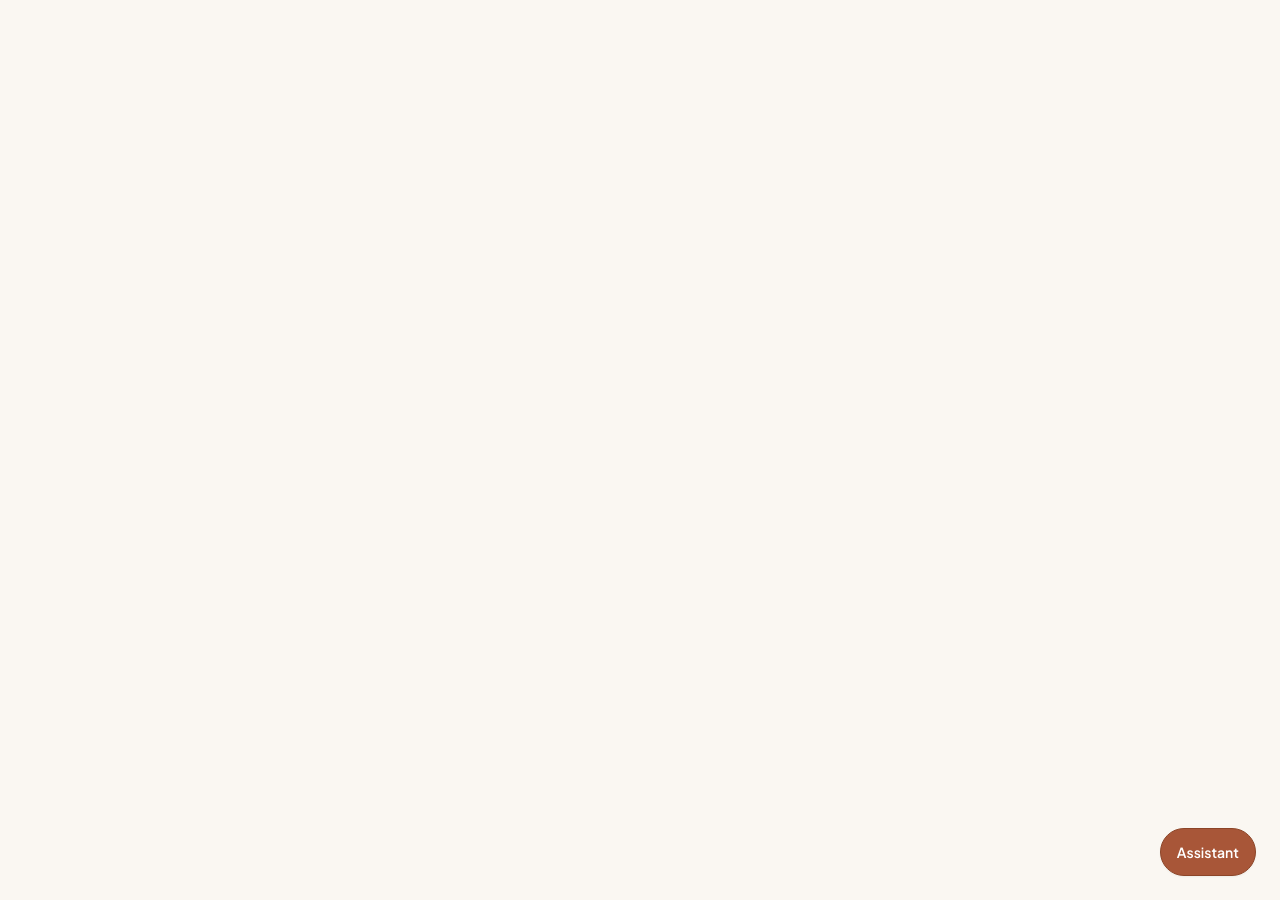
AiAssistant guest access › fetches guest substitutions through the api client, not a relative /api path
Click the button with aria-label "open cooking assistant" at [1208, 852], box left=1160, top=828, right=1256, bottom=876
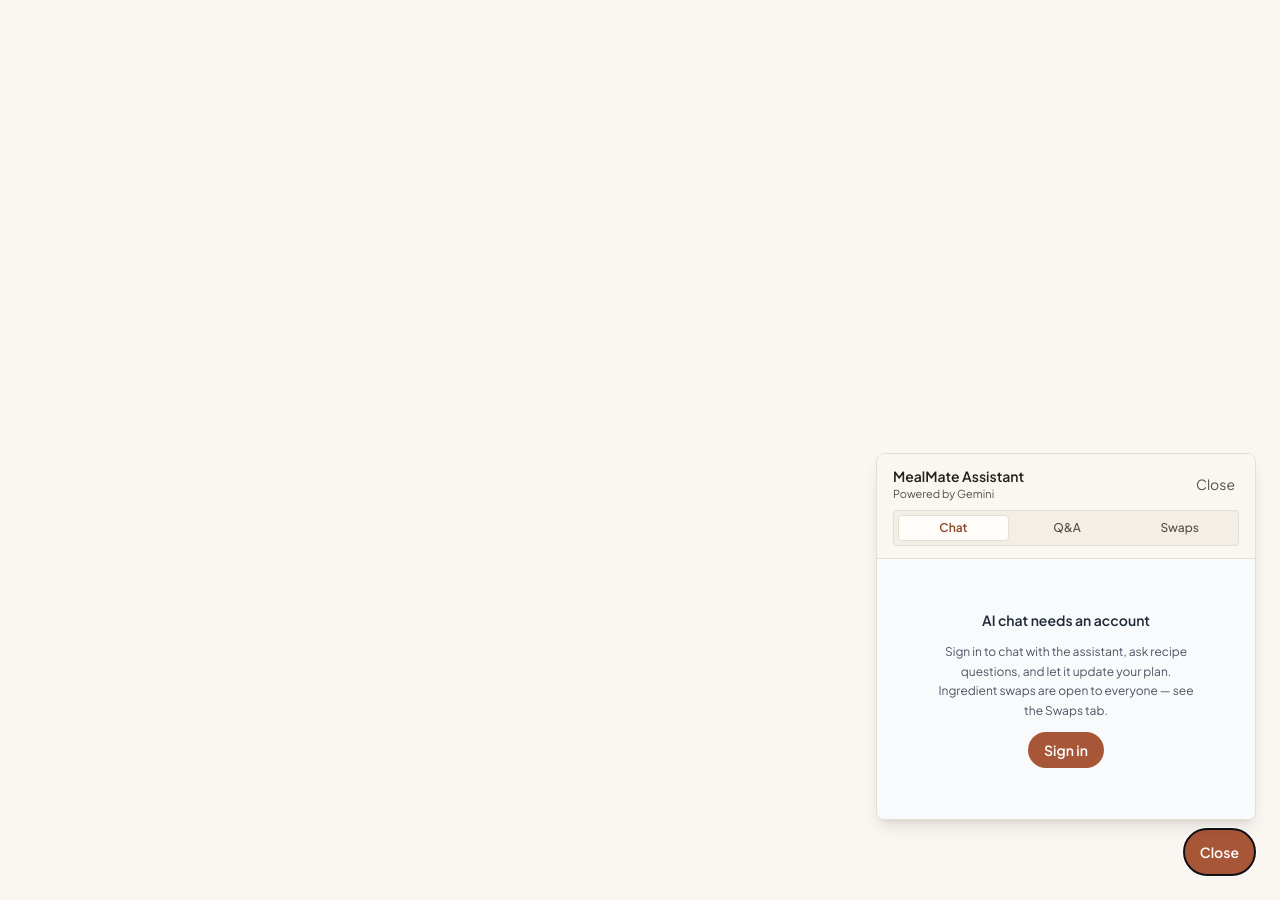
Click the button "Swaps" at [1180, 528], box left=1125, top=515, right=1234, bottom=541
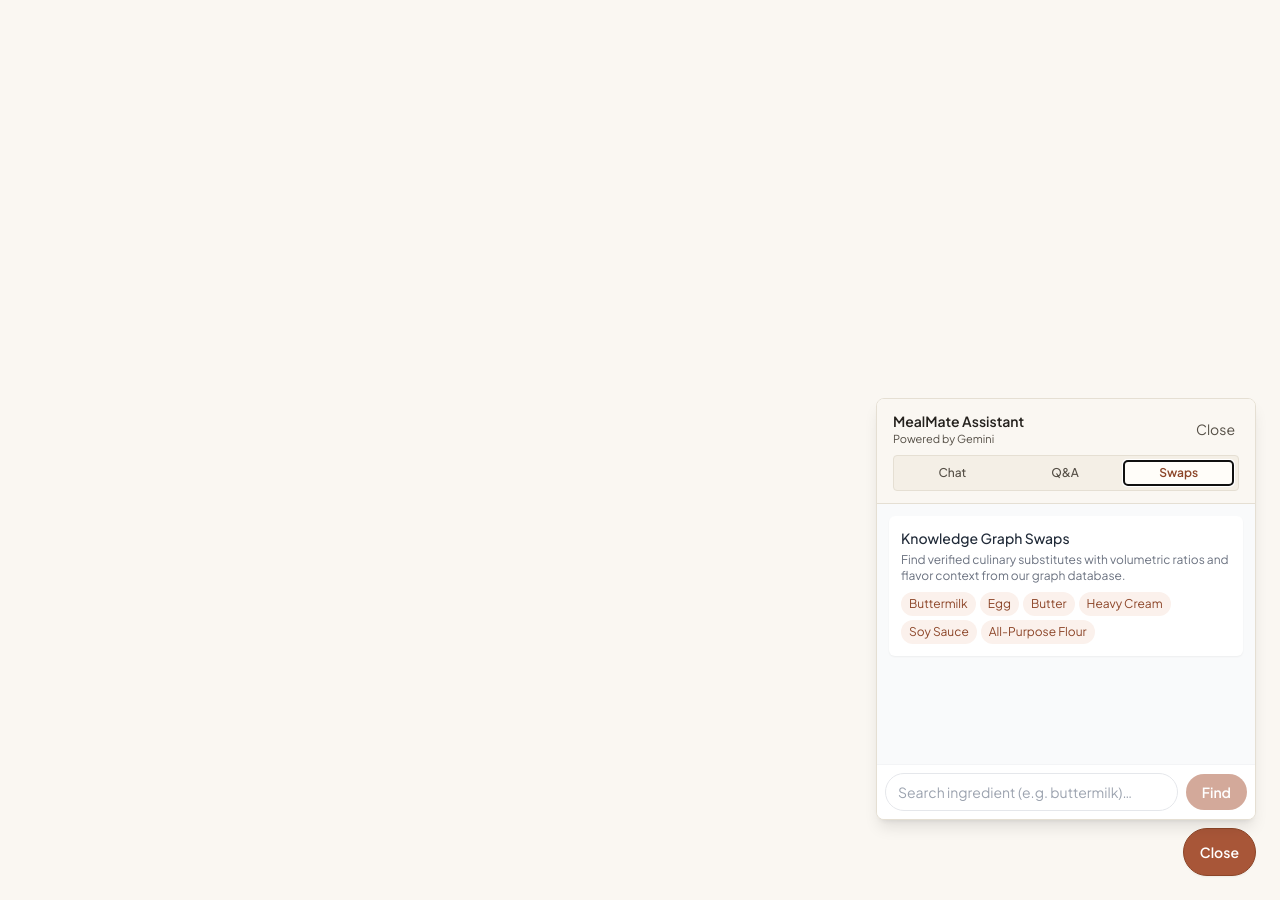
Type "butter" into the field with placeholder "Search ingredient (e.g. buttermilk)…" at [1031, 792], box left=885, top=773, right=1178, bottom=811
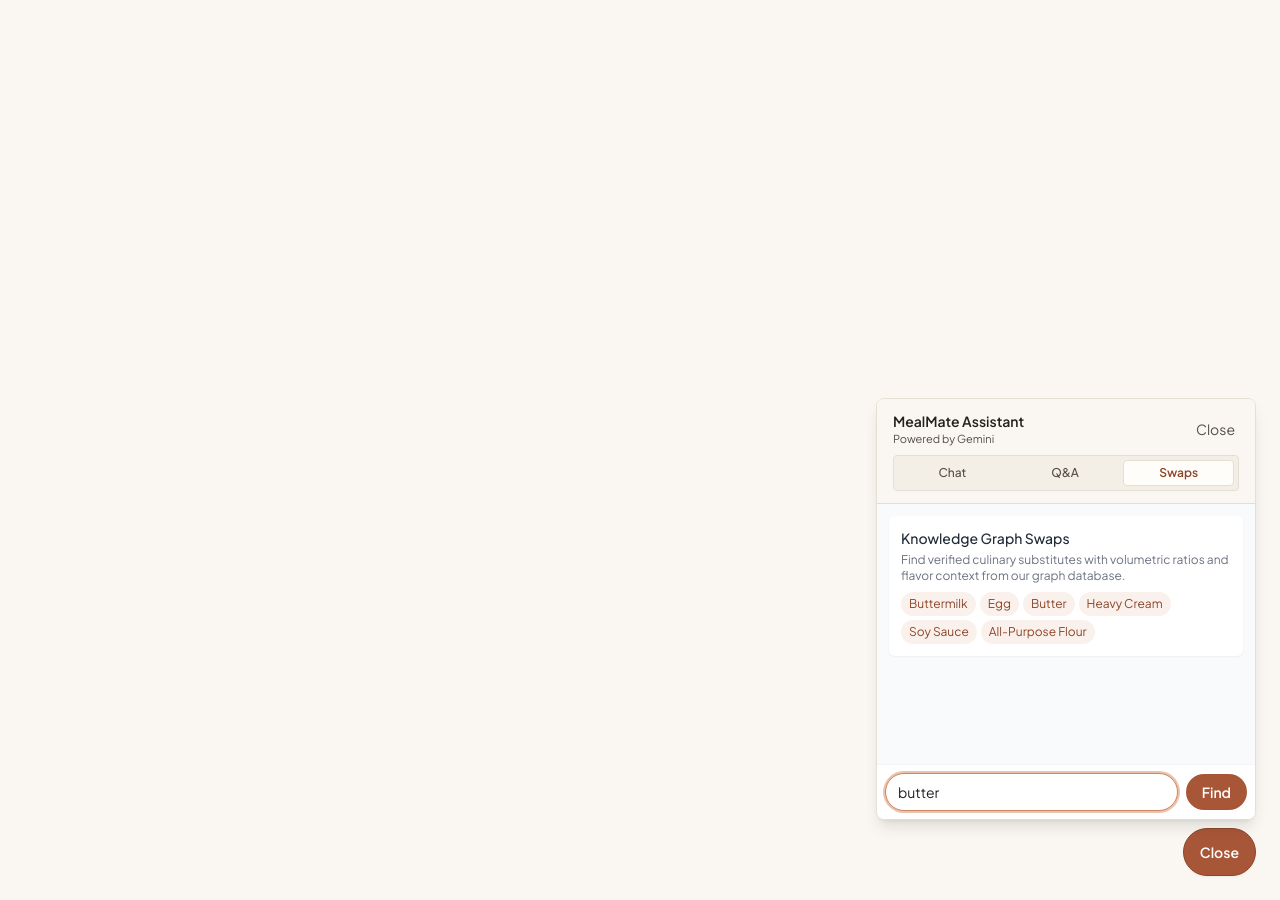
Click the button "Find" at [1216, 792], box left=1186, top=774, right=1247, bottom=810
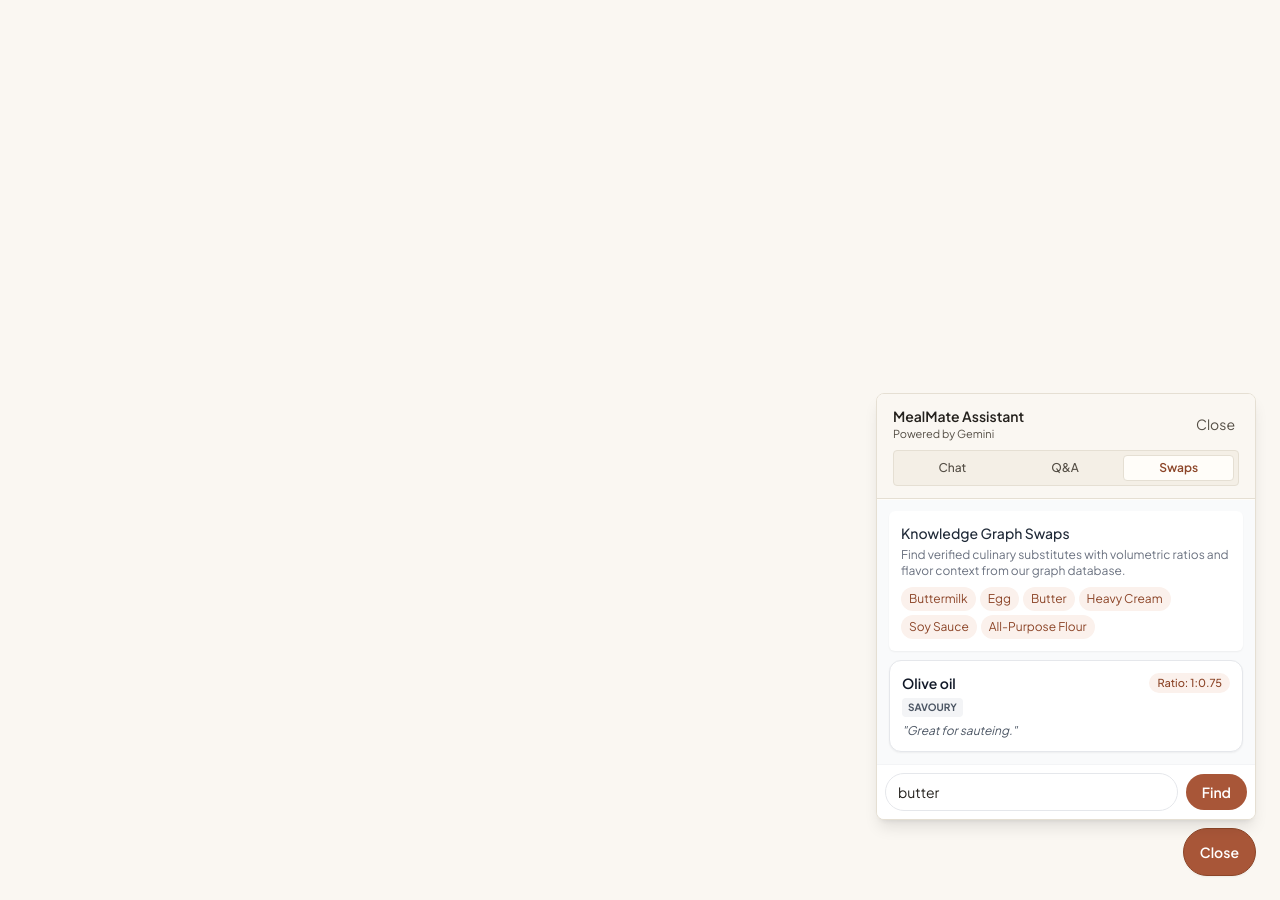
Expected: the text "Olive oil" is shown, left=902, top=673, right=956, bottom=693
Expected: the text "Ratio: 1:0.75" is shown, left=1149, top=672, right=1230, bottom=693
